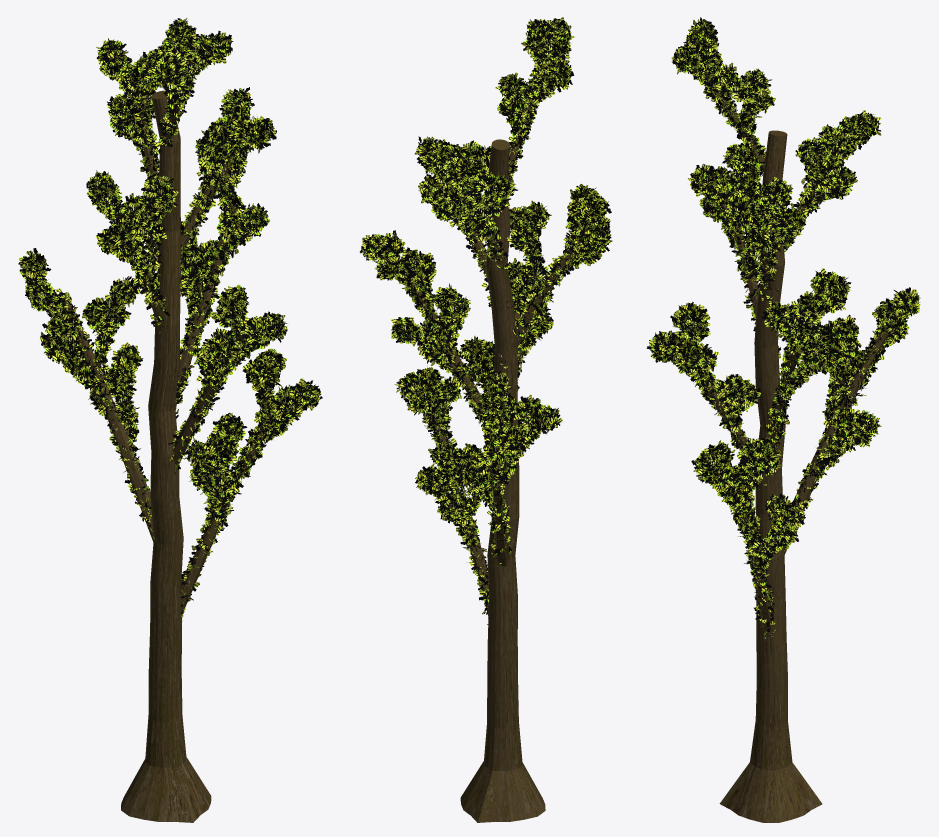
The model's file is baldcypress_v02.fbx.
3 renders of one model, left to right at view 1: azimuth 30°, elevation 25°; view 2: azimuth 150°, elevation 25°; view 3: azimuth 270°, elevation 25°, orthographic. The views are drawn at different scales.
Parts seen in each view (by area): view 1: baldcypress_v02; view 2: baldcypress_v02; view 3: baldcypress_v02.
Part boxes in pixels (x1=…): baldcypress_v02: x1=18, y1=18, x2=322, y2=822; baldcypress_v02: x1=360, y1=17, x2=612, y2=822; baldcypress_v02: x1=646, y1=17, x2=920, y2=822.
Size of the model in its own units: 868 by 987 by 3017.
Materials: 2 (2 with a texture image).
